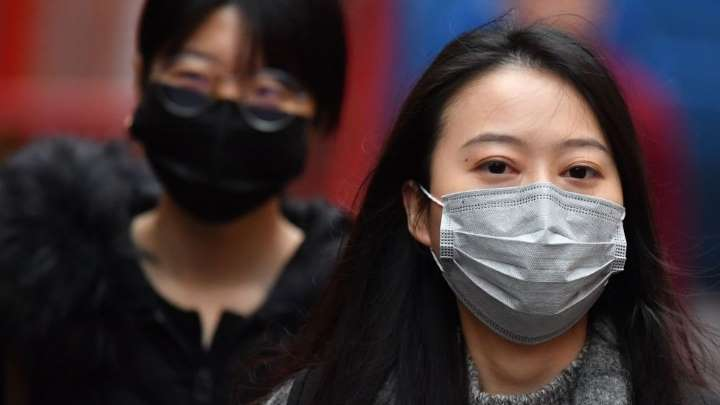homemade: (133, 87, 304, 222)
surgical: (427, 180, 633, 350)
